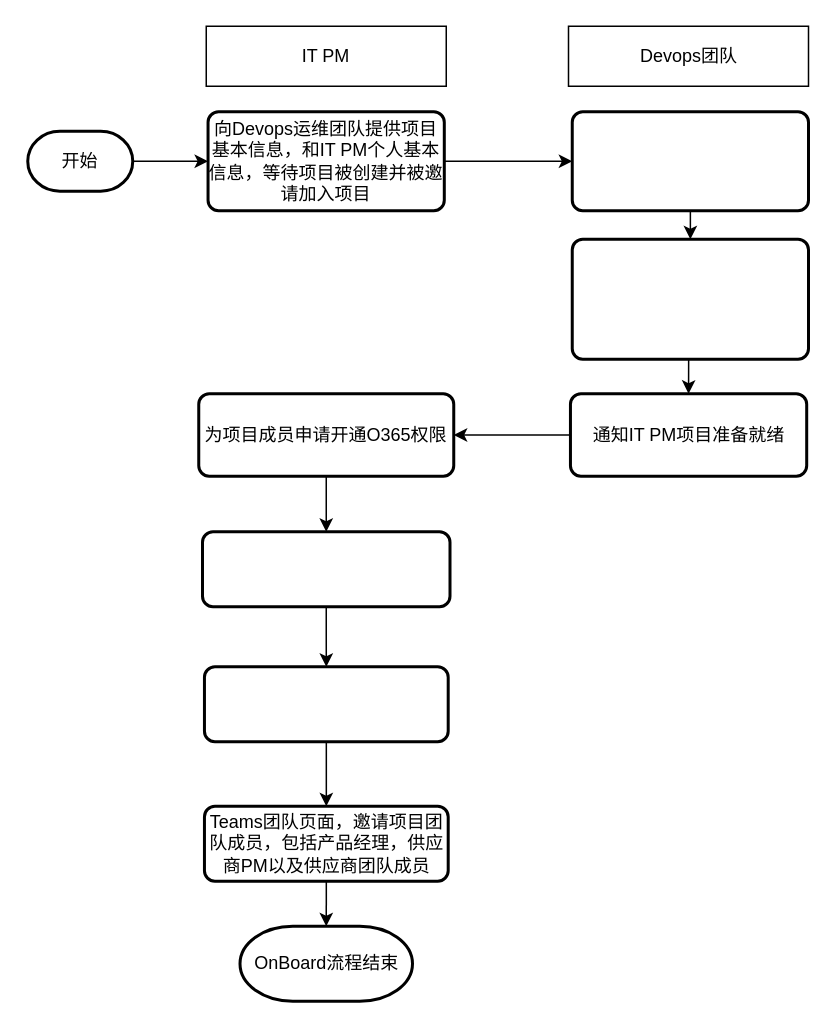
Some shapes in this 836 by 1029 pixel diagram are drawn without their labels. Here are the shapes that lost their labels. From the top down, the centre of each, then its label:
At point (689, 161): "获得申请需求，创建项目，邀请IT PM加入项目".
At point (689, 298): "Teams中创建团队，邀请IT PM加入团队，关联Azure devops项目；同时SharePoint团队空间中创建好标准目录模板".
At point (325, 569): "Devops平台项目页面邀请团队成员包括，产品经理，供应商PM和团队成员".
At point (325, 703): "设置权限".
